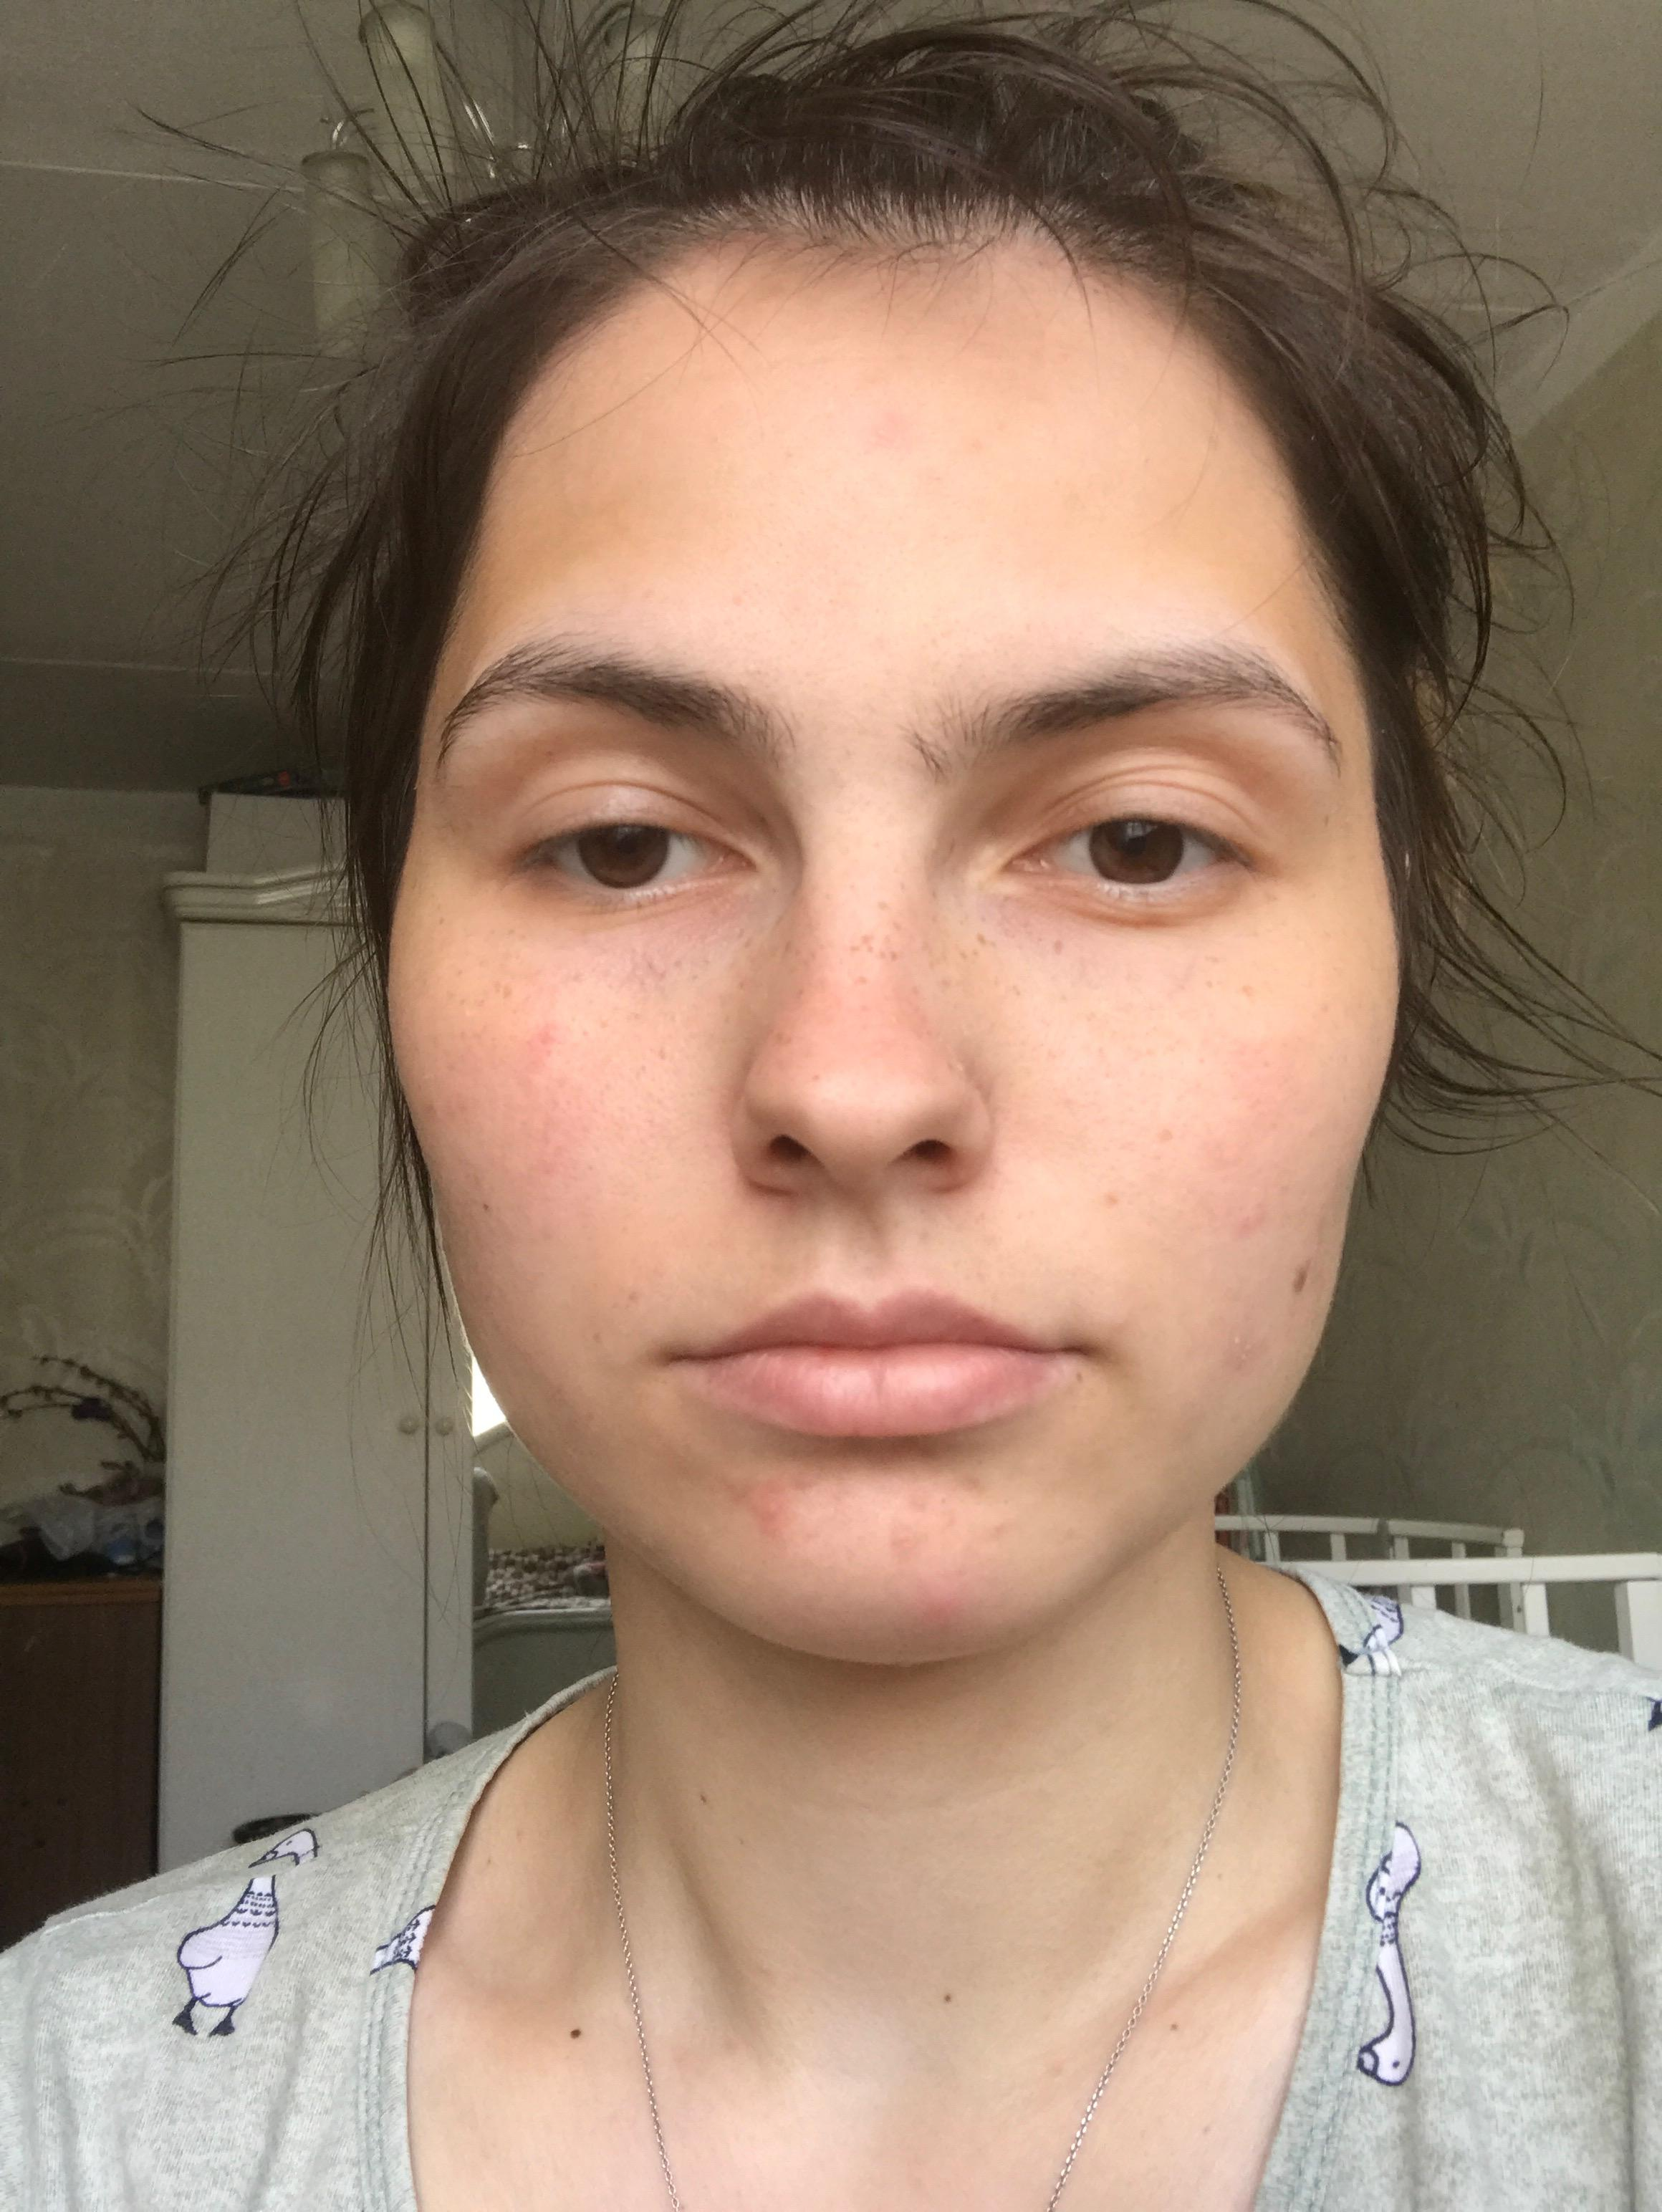Acne: (531, 1105, 574, 1182), (913, 1578, 971, 1629), (749, 1479, 796, 1540), (864, 402, 917, 456), (529, 1014, 564, 1054), (520, 1049, 553, 1077)
